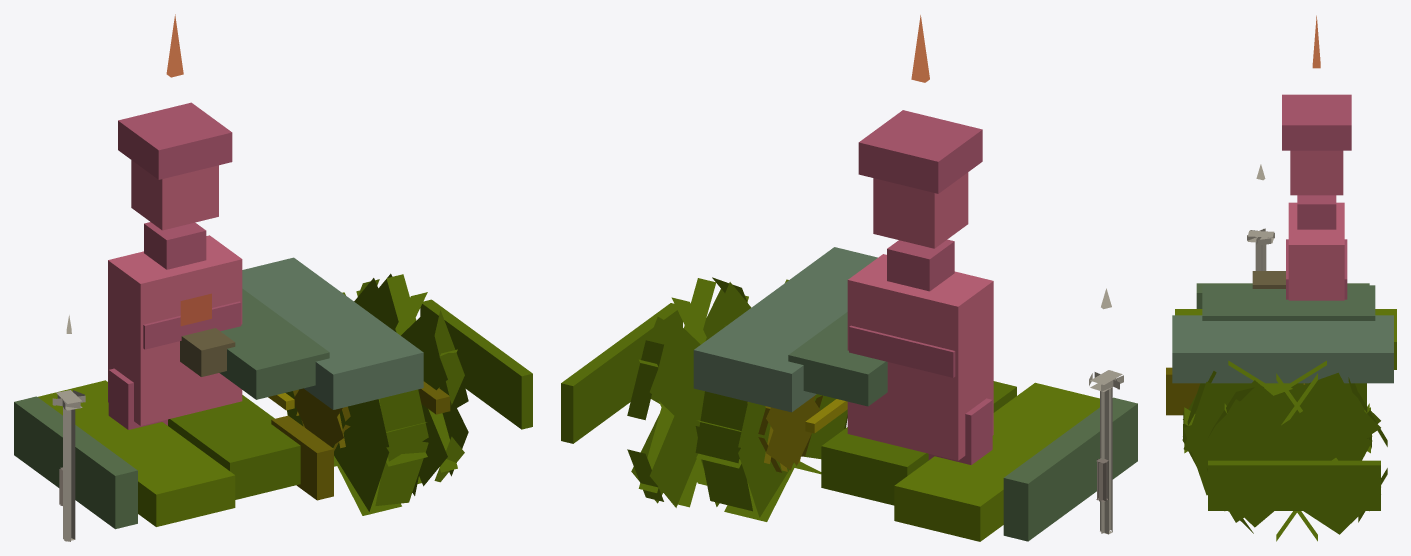
The model's file is takeda-10.glb.
The picture shows the model from 3 angles, left to right: view 1: azimuth 30°, elevation 25°; view 2: azimuth 150°, elevation 25°; view 3: azimuth 270°, elevation 25°; orthographic projection. The views are drawn at different scales.
Parts seen in each view (by area): view 1: samurai; view 2: samurai; view 3: samurai.
Part boxes in pixels (box(x1,y1,x2,y2)): samurai: box(14, 14, 532, 541); samurai: box(561, 15, 1137, 541); samurai: box(1166, 15, 1396, 541).
Size of the model in its own units: 1.58 by 1.71 by 0.8275.
